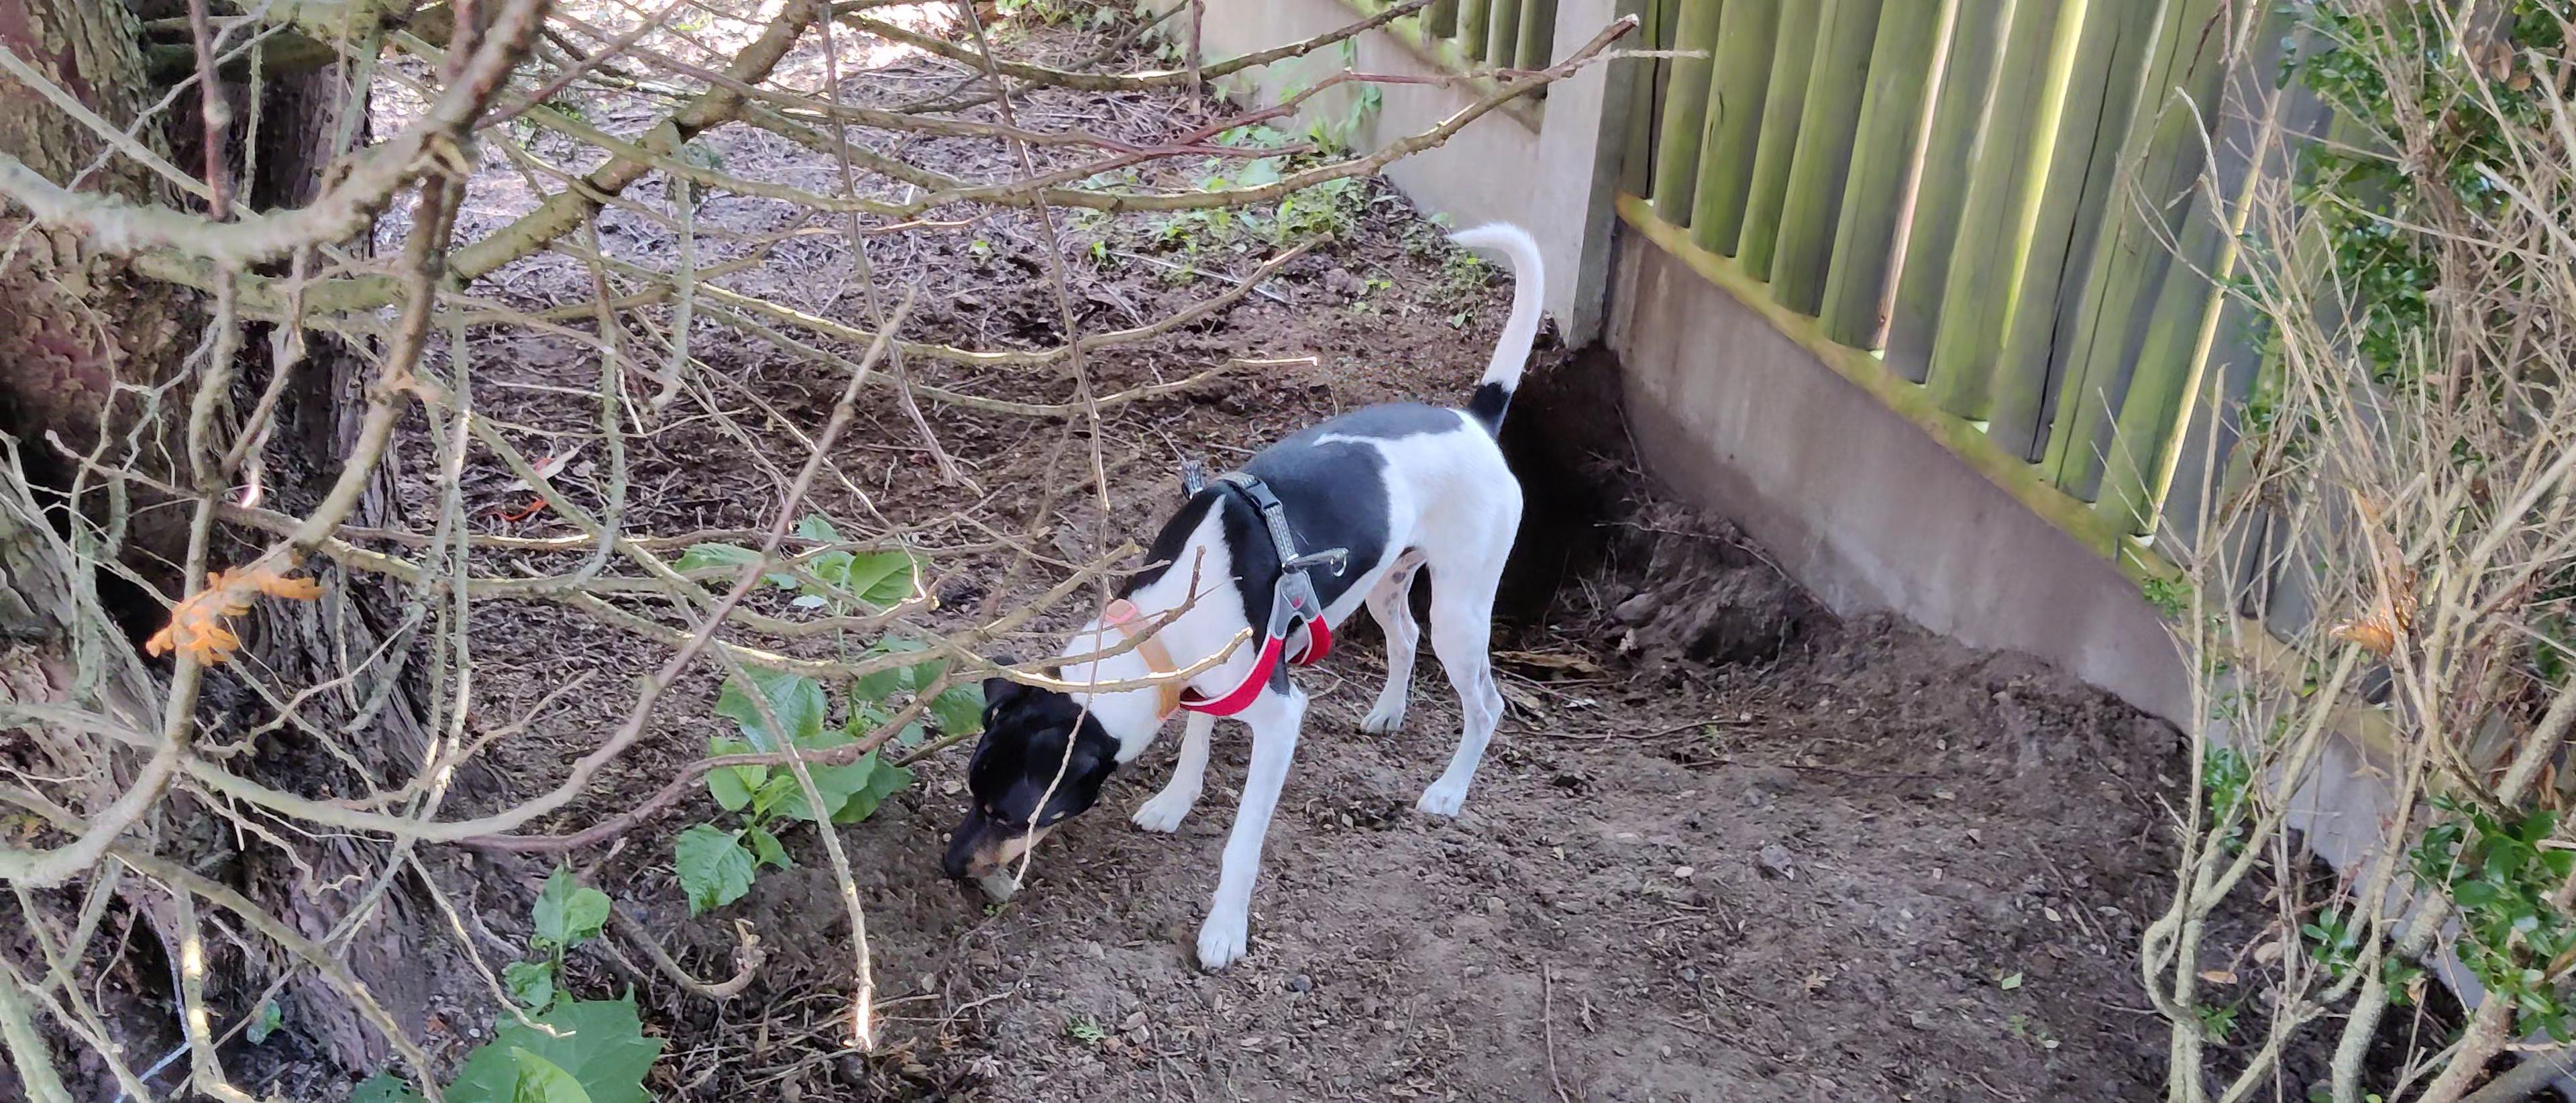Dog: (927, 205, 1548, 996)
